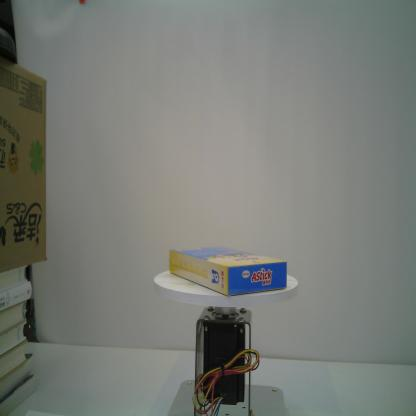Dessert: (168, 244, 288, 297)
